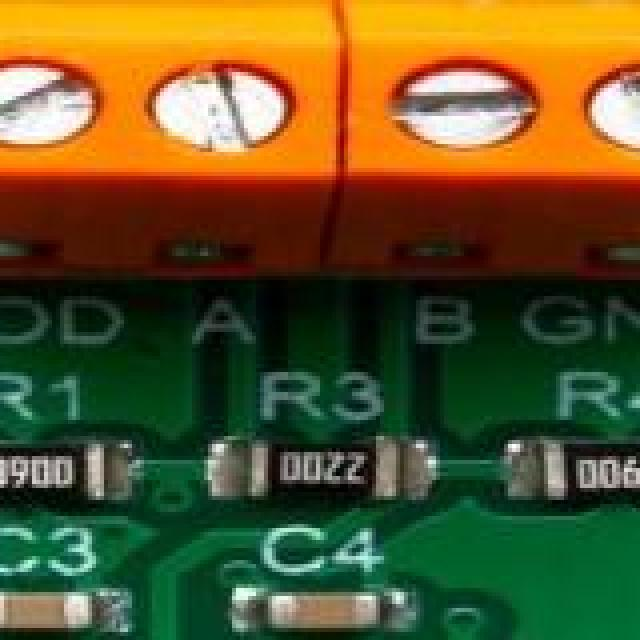capacitor: (252, 588, 408, 640), (0, 588, 132, 632)
connector: (0, 0, 336, 272), (352, 0, 640, 280)
resistor: (232, 444, 398, 494), (524, 444, 640, 508), (0, 440, 92, 500)
